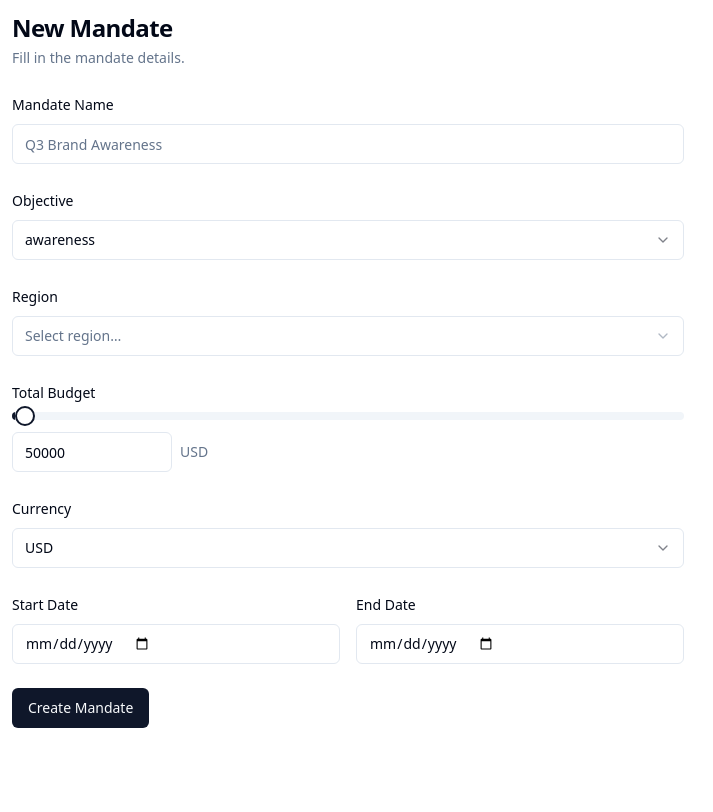
Test: MandateFormPage — cities › shows cities for a selected country
Find the Region trigger by its placeholder text
Click the dropdown labelled "Select region…". click: (73, 336)
box: [12,316,684,356]
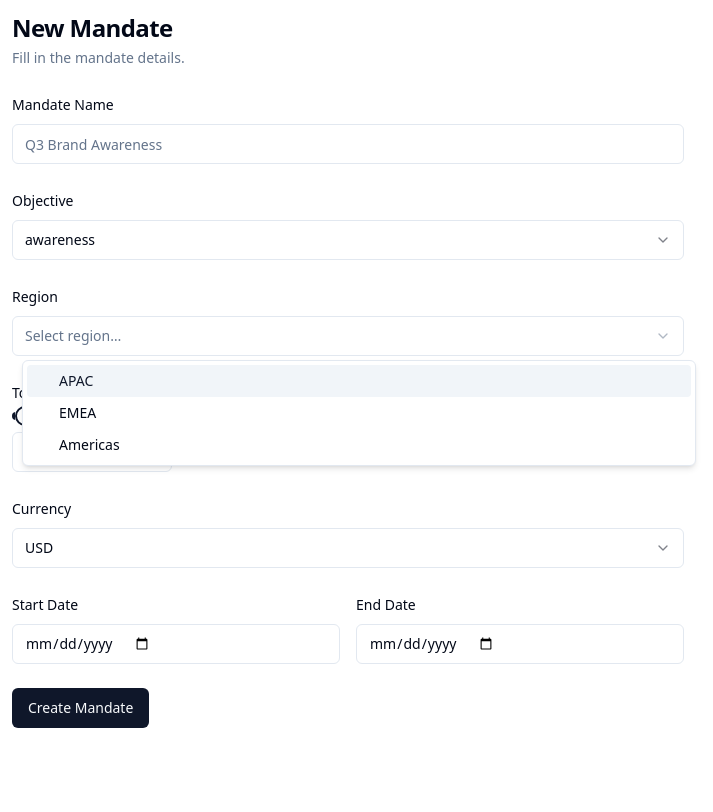
Expected: the option "APAC" is shown
Click the option "APAC". click: (76, 380)
box: [27,365,691,397]
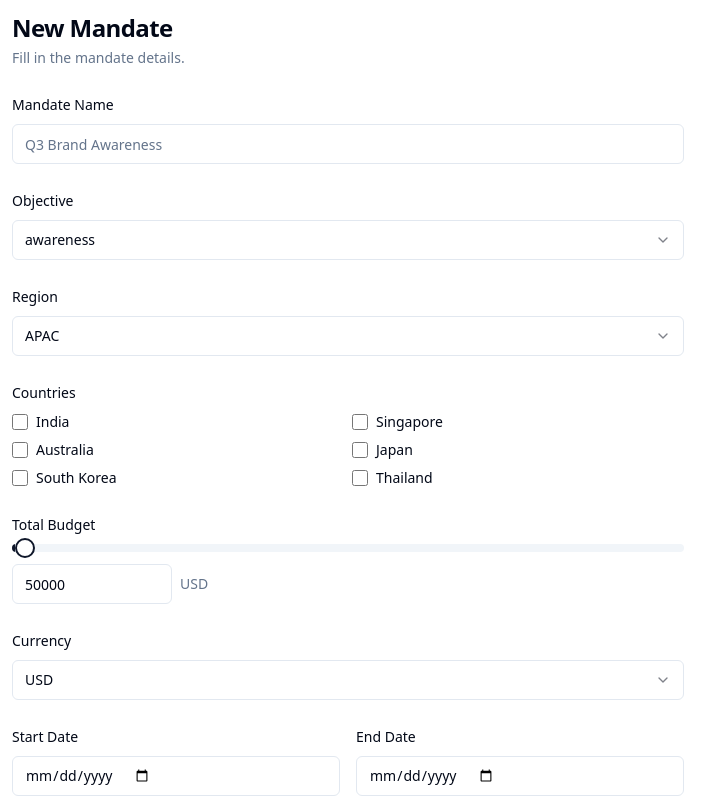
Expected: the checkbox labelled "India" is shown
India checkbox should appear
Click the checkbox labelled "India". click: (20, 422)
box: [12,414,28,430]
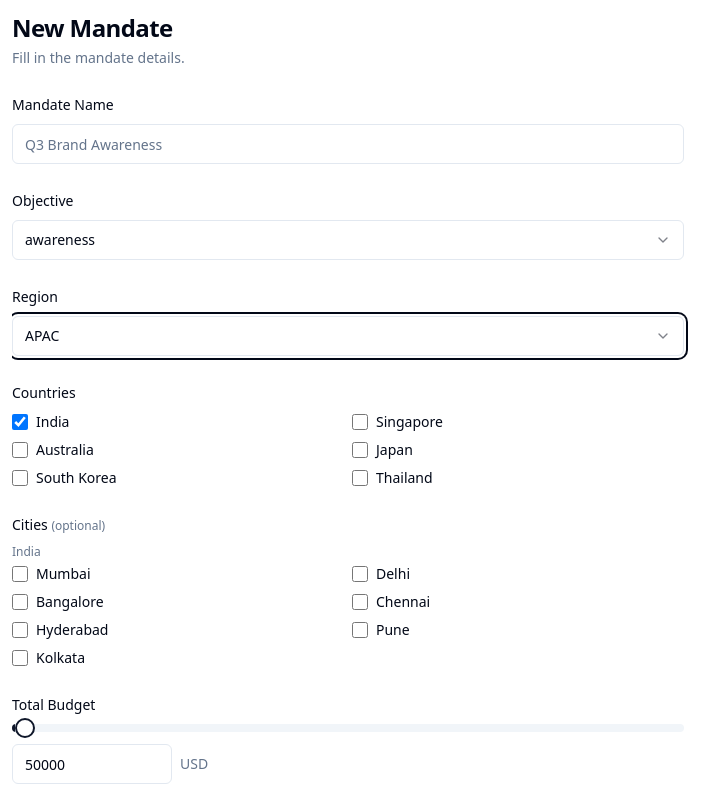
Expected: the text "Cities" is shown, [12,515,51,534]
Expected: the checkbox labelled "Mumbai" is shown, [12,566,28,582]
Expected: the checkbox labelled "Delhi" is shown, [352,566,368,582]
